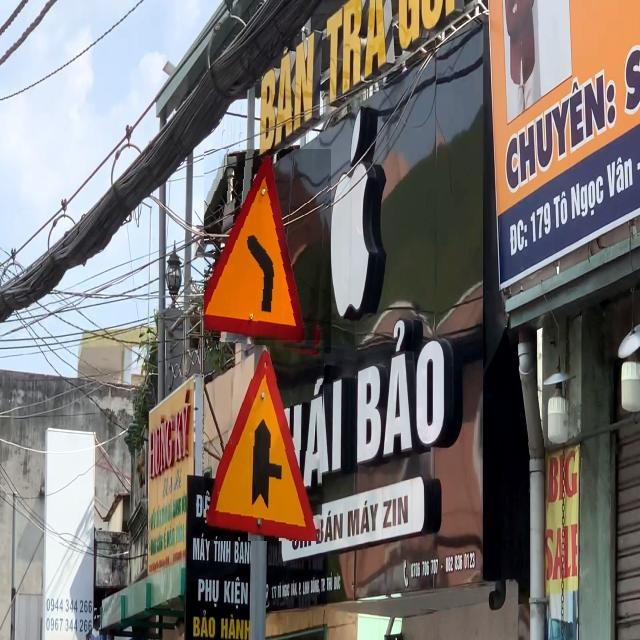bien_nguy_hiem: (204, 150, 331, 353), (204, 340, 324, 541)
